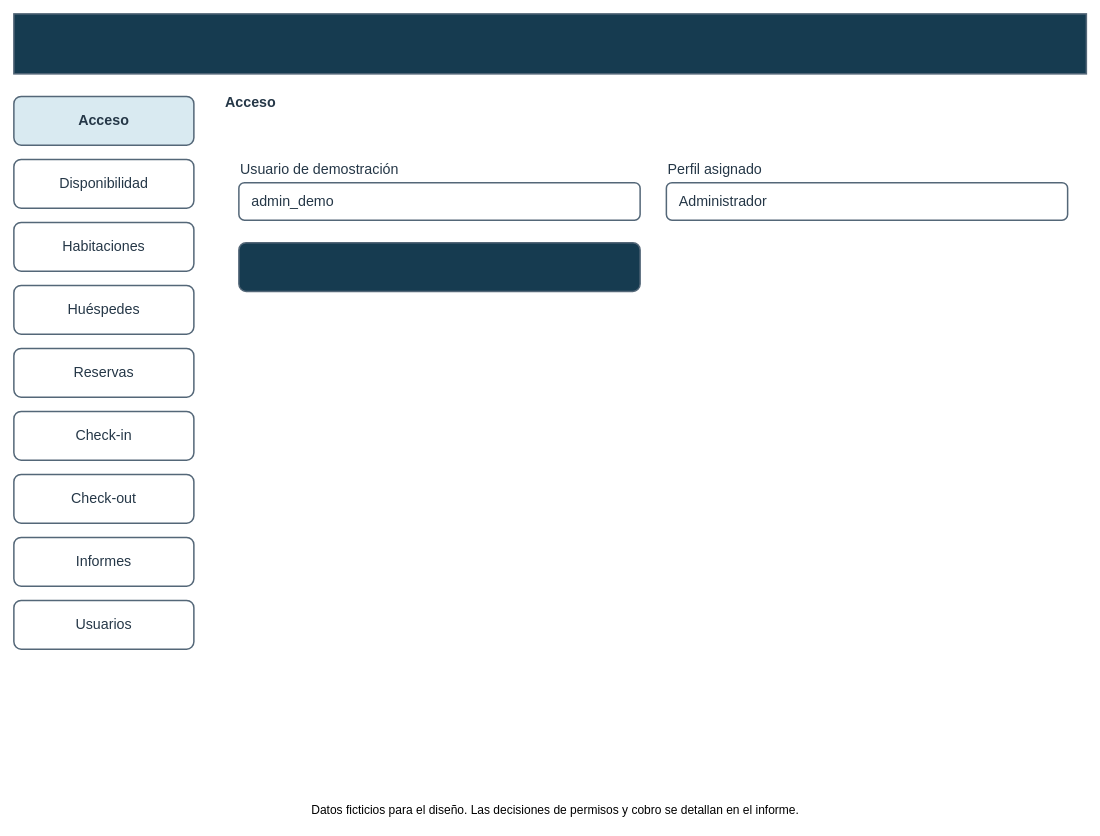
This 1100x836 diagram has some shape labels left out. Here are the shapes that lost their labels. From the top down, the centre of each, then its label:
[550,43]: Hotel Duerme Bien · Sistema de pasajeros
[439,267]: Entrar
